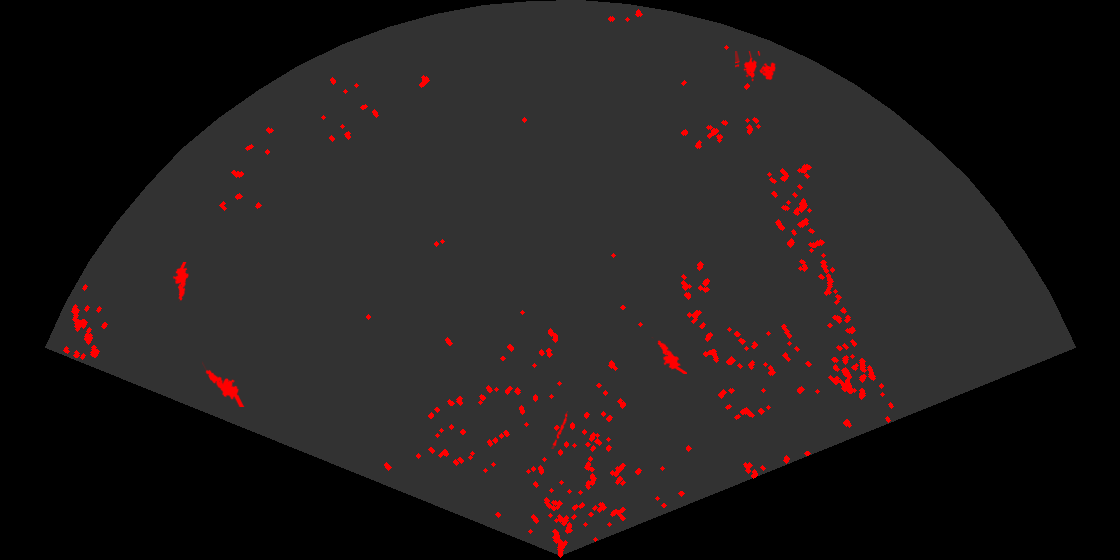cage: (735, 51, 777, 83)
chain: (550, 411, 570, 449)
frogman: (202, 360, 245, 407), (650, 337, 687, 374), (171, 262, 190, 302)
